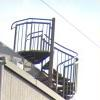stairs: (52, 45, 80, 98)
